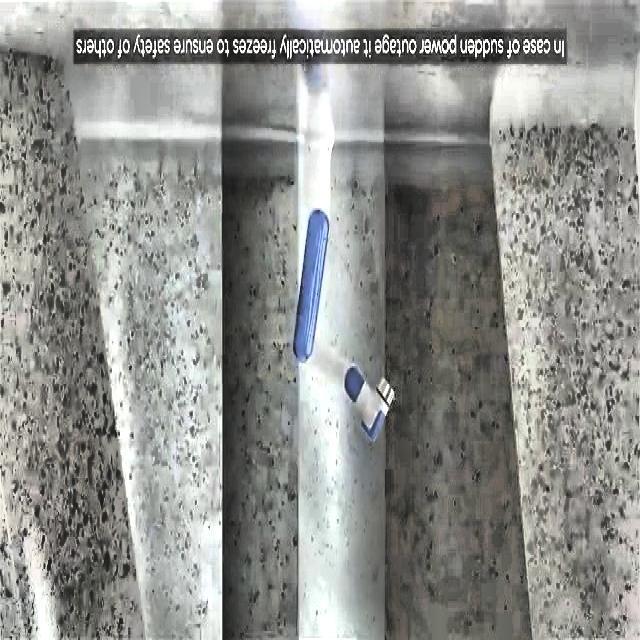robot: (279, 127, 397, 445)
